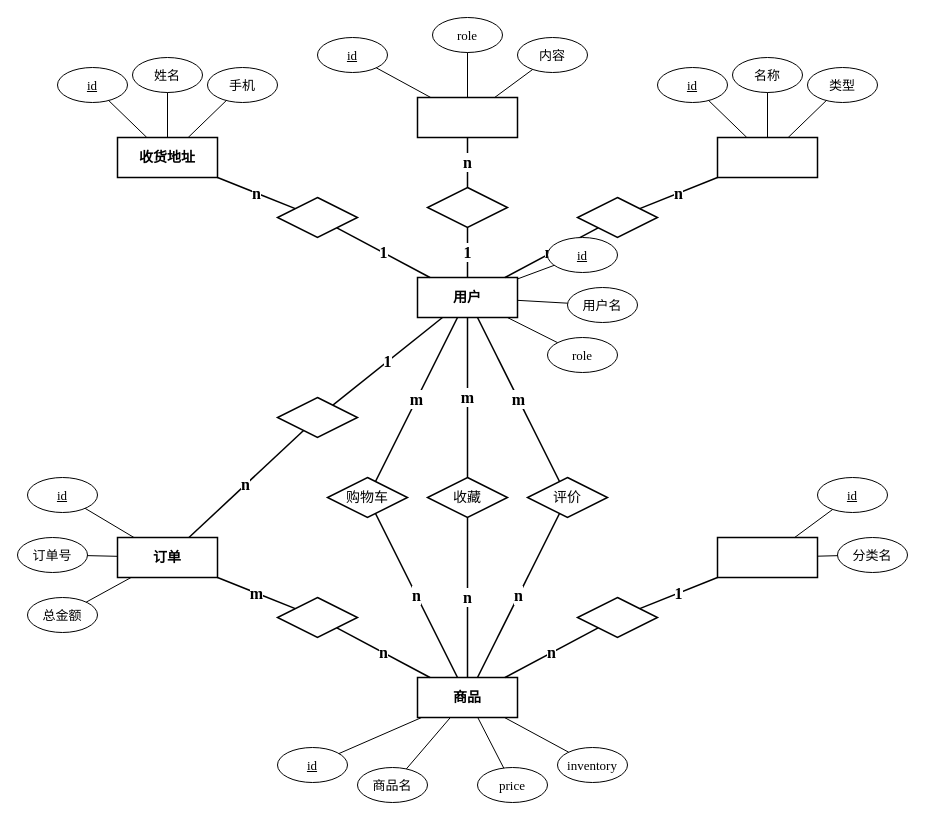
The diagram is 925 pixels wide and 820 high, and some of its shapes have lost their labels. Each missing label, with the centre of its shape:
AI对话: the point at 467,117
下单: the point at 317,417
优惠券: the point at 767,157
分类: the point at 767,557
包含: the point at 317,617
咨询: the point at 467,207
归属: the point at 617,617
拥有: the point at 317,217
领取: the point at 617,217
